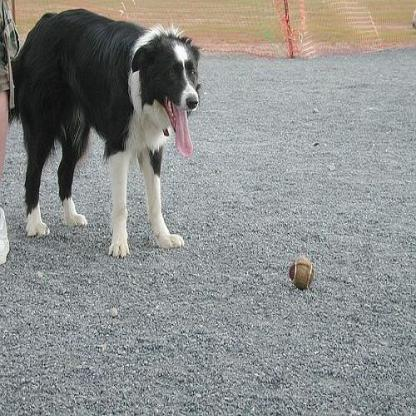Border_collie: (6, 6, 200, 255)
